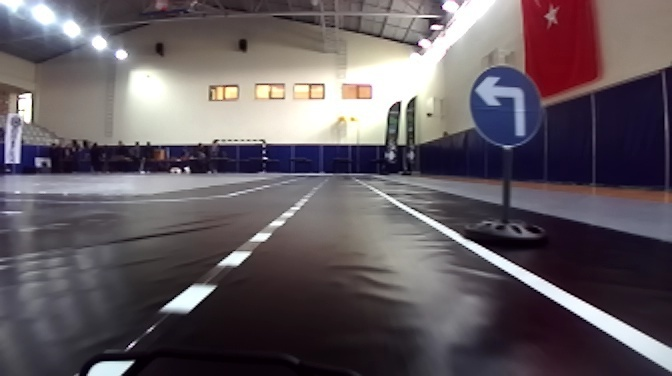sola_donus: (470, 62, 541, 147)
